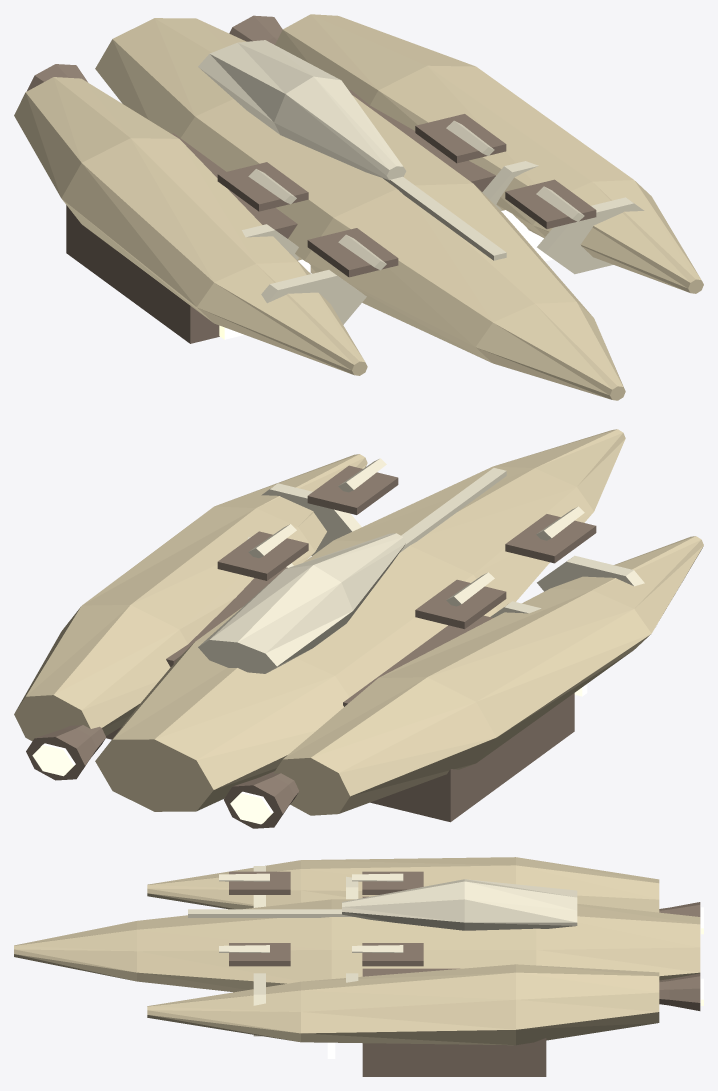
3 views of the same model, one above another, from view 1: azimuth 30°, elevation 25°; view 2: azimuth 150°, elevation 25°; view 3: azimuth 270°, elevation 25° (orthographic). The views are drawn at different scales.
Size of the model in its own units: 10.16 by 3.63 by 18.02.
